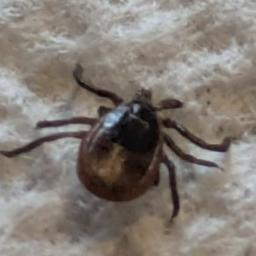Ixodes scapularis: (4, 68, 232, 221)
